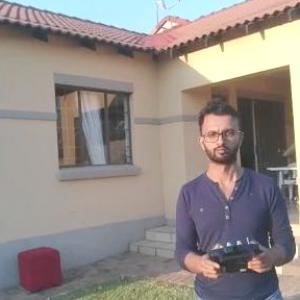follow: (172, 92, 299, 299)
